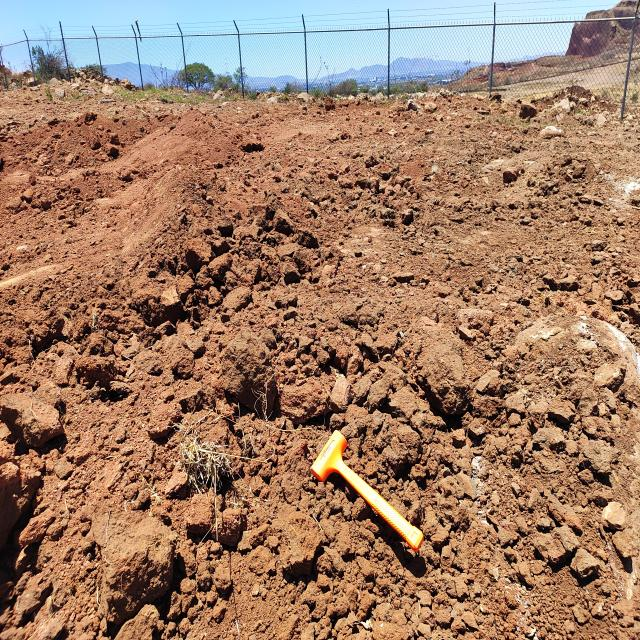Orange_hammer: (310, 429, 424, 552)
